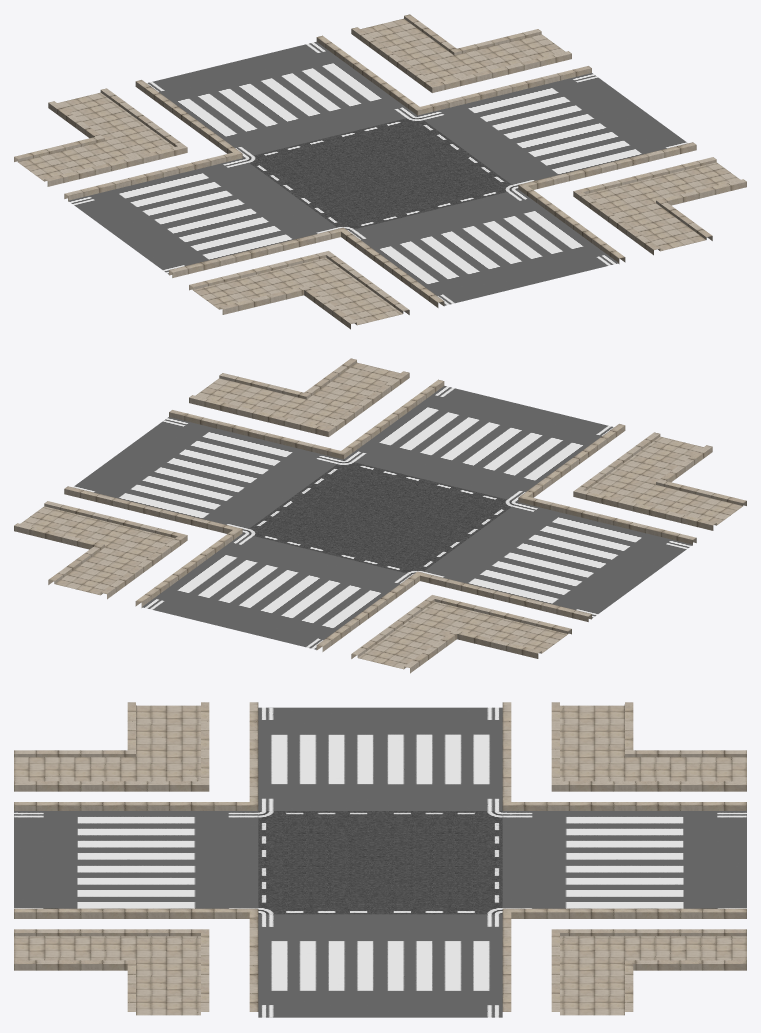
Rendered from CrossX.FBX.
3 views of the same model, one above another, from view 1: azimuth 30°, elevation 25°; view 2: azimuth 150°, elevation 25°; view 3: azimuth 270°, elevation 25° (orthographic). The views are drawn at different scales.
Parts seen in each view (by area): view 1: CrossX; view 2: CrossX; view 3: CrossX.
Part boxes in pixels (left/top/right/bottom): CrossX: left=14, top=14, right=746, bottom=329; CrossX: left=14, top=358, right=746, bottom=673; CrossX: left=14, top=702, right=746, bottom=1017.
Bounding box in the file's own units: 30 × 0.3 × 30.
3 materials, 3 textured.
